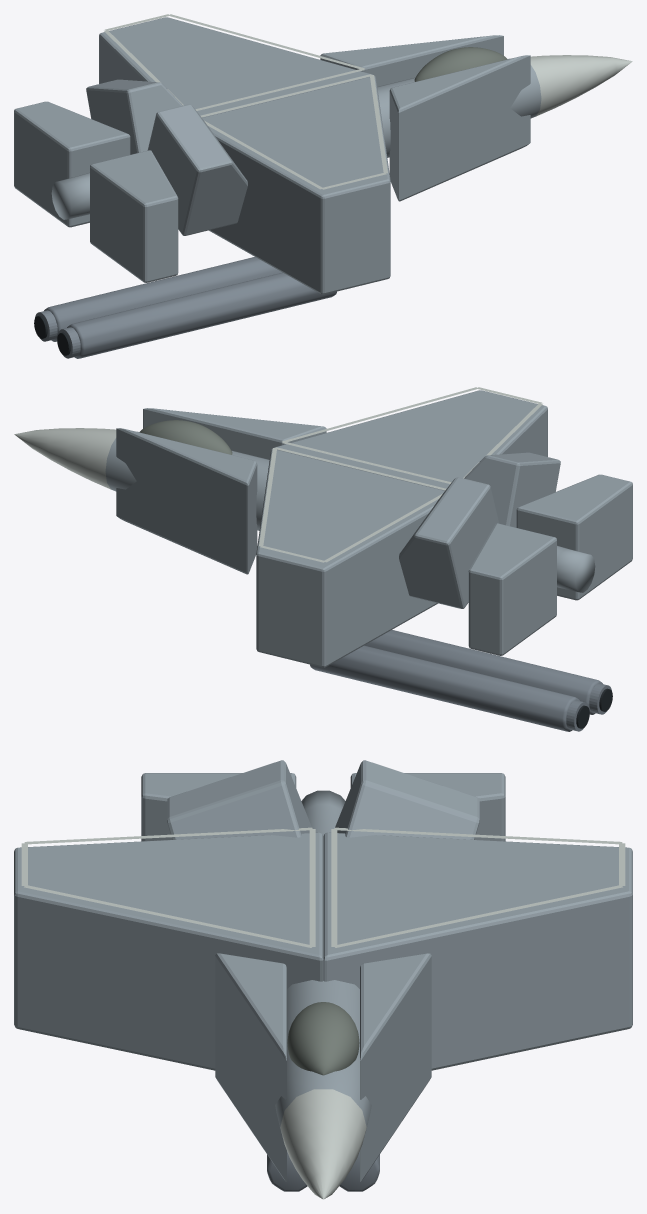
The model's file is rfn_uav_orlan10.glb.
3 views of the same model, one above another, from view 1: azimuth 30°, elevation 25°; view 2: azimuth 150°, elevation 25°; view 3: azimuth 270°, elevation 25° (orthographic). The views are drawn at different scales.
Parts seen in each view (by area): view 1: rfn_uav_orlan10; view 2: rfn_uav_orlan10; view 3: rfn_uav_orlan10.
Part boxes in pixels (bbox=[...]): rfn_uav_orlan10: bbox=[14, 14, 632, 358]; rfn_uav_orlan10: bbox=[14, 387, 632, 731]; rfn_uav_orlan10: bbox=[14, 760, 632, 1199].
Size of the model in its own units: 10 by 3.75 by 6.68.
